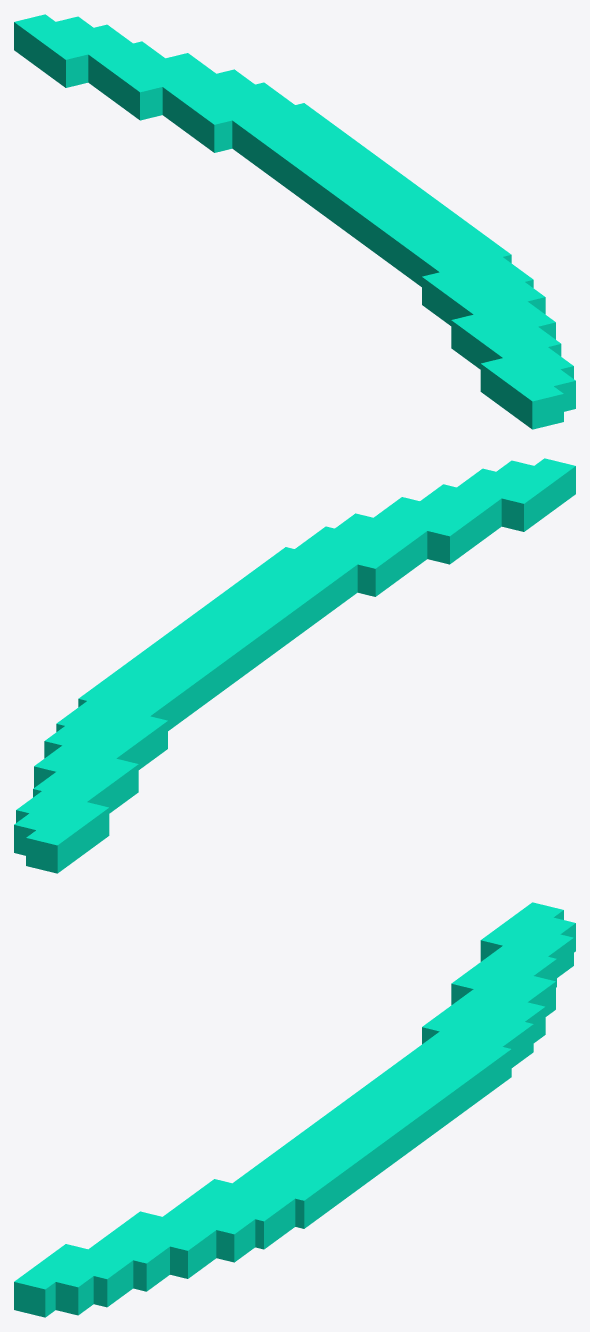
The model's file is BossWave.fbx.
The picture shows the model from 3 angles, top to bottom: view 1: azimuth 30°, elevation 25°; view 2: azimuth 150°, elevation 25°; view 3: azimuth 330°, elevation 25°; orthographic projection.
Parts seen in each view (by area): view 1: BossWave; view 2: BossWave; view 3: BossWave.
Part boxes in pixels (left/top/right/bottom): BossWave: left=14, top=14, right=575, bottom=429; BossWave: left=14, top=458, right=575, bottom=873; BossWave: left=14, top=902, right=575, bottom=1317.
Size of the model in its own units: 30 by 6 by 200.
